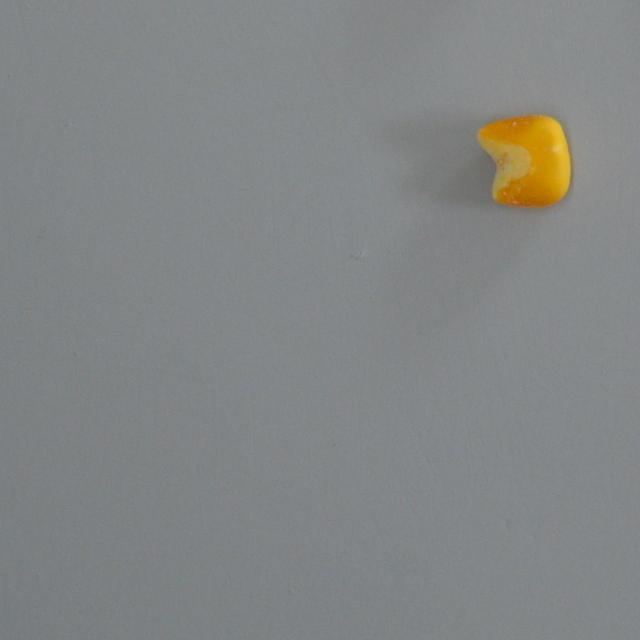pelicula: (474, 114, 572, 211)
